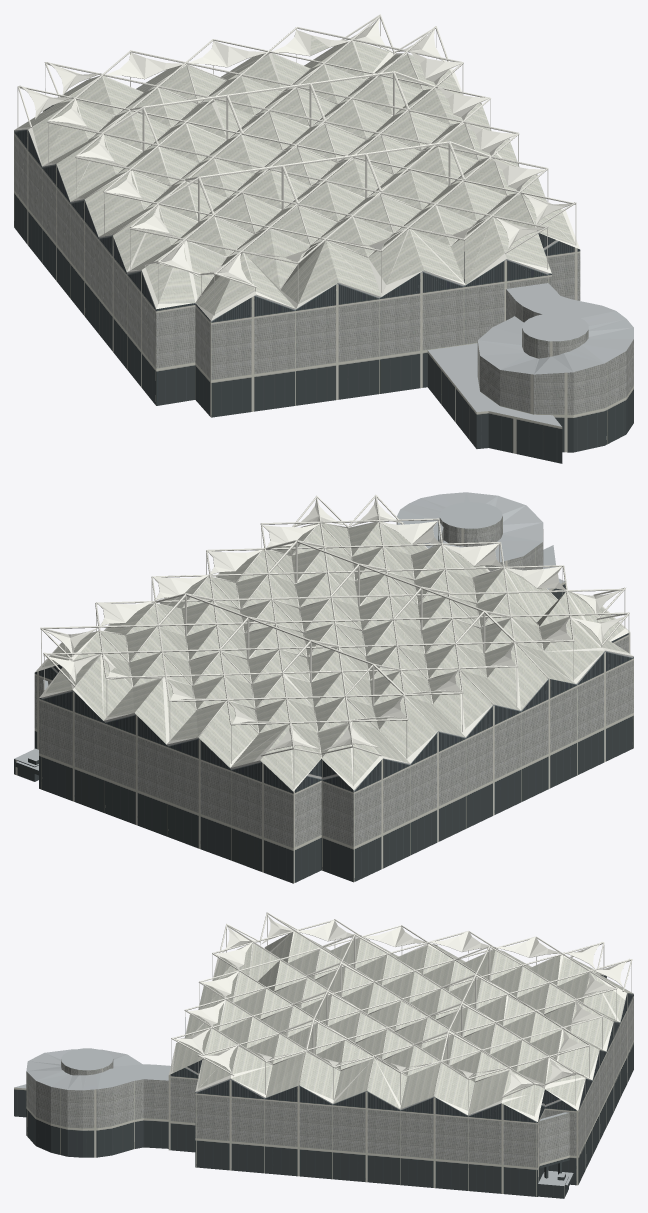
3 views of the same model, one above another, from view 1: azimuth 30°, elevation 25°; view 2: azimuth 150°, elevation 25°; view 3: azimuth 270°, elevation 25° (orthographic). The views are drawn at different scales.
Visible parts, largest first — view 1: Suntec exhibition folded roof, Suntec exhibition glass-block bays, Suntec exhibition roof structure, Suntec exhibition podium roof; view 2: Suntec exhibition folded roof, Suntec exhibition glass-block bays, Suntec exhibition roof structure, Suntec exhibition podium roof; view 3: Suntec exhibition folded roof, Suntec exhibition glass-block bays, Suntec exhibition roof structure, Suntec exhibition podium roof.
Boxes of the visible parts, x1,y1,x2,y2 form: Suntec exhibition folded roof: [19, 35, 575, 314]; Suntec exhibition glass-block bays: [14, 105, 633, 463]; Suntec exhibition roof structure: [14, 14, 579, 320]; Suntec exhibition podium roof: [428, 283, 633, 426]; Suntec exhibition folded roof: [42, 521, 627, 791]; Suntec exhibition glass-block bays: [14, 516, 633, 883]; Suntec exhibition roof structure: [35, 495, 633, 791]; Suntec exhibition podium roof: [14, 492, 564, 770]; Suntec exhibition folded roof: [173, 932, 632, 1115]; Suntec exhibition glass-block bays: [14, 974, 633, 1198]; Suntec exhibition roof structure: [169, 912, 632, 1121]; Suntec exhibition podium roof: [14, 1048, 573, 1185].
Size of the model in its own units: 175 by 58.96 by 260.
Materials: 4 (2 with a texture image).
